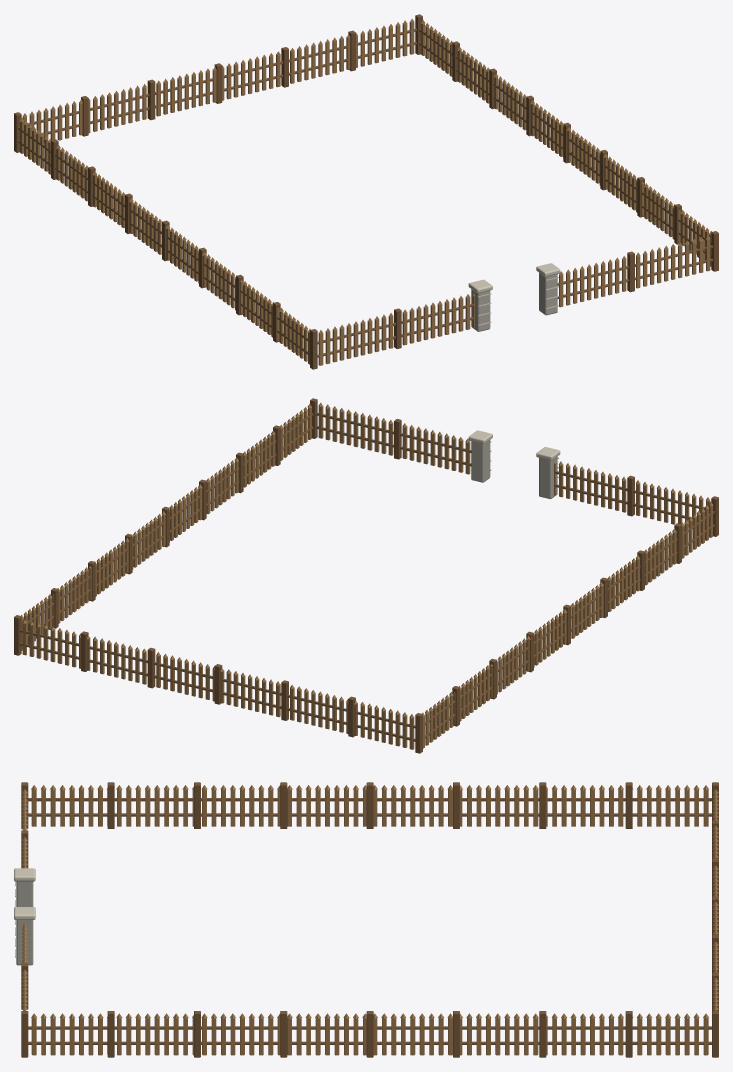
The model's file is SM_IntellectualGrandpaHouse_Fence.fbx.
The picture shows the model from 3 angles, top to bottom: view 1: azimuth 30°, elevation 25°; view 2: azimuth 150°, elevation 25°; view 3: azimuth 270°, elevation 25°; orthographic projection. The views are drawn at different scales.
Parts seen in each view (by area): view 1: SM_IntellectualGrandpaHouse_Fence; view 2: SM_IntellectualGrandpaHouse_Fence; view 3: SM_IntellectualGrandpaHouse_Fence.
Boxes of the visible parts, x1=… form: SM_IntellectualGrandpaHouse_Fence: x1=14, y1=14, x2=718, y2=369; SM_IntellectualGrandpaHouse_Fence: x1=14, y1=398, x2=718, y2=753; SM_IntellectualGrandpaHouse_Fence: x1=14, y1=782, x2=718, y2=1057.
Size of what is drawn, in the model's own units: 1347 by 1735 by 140.
